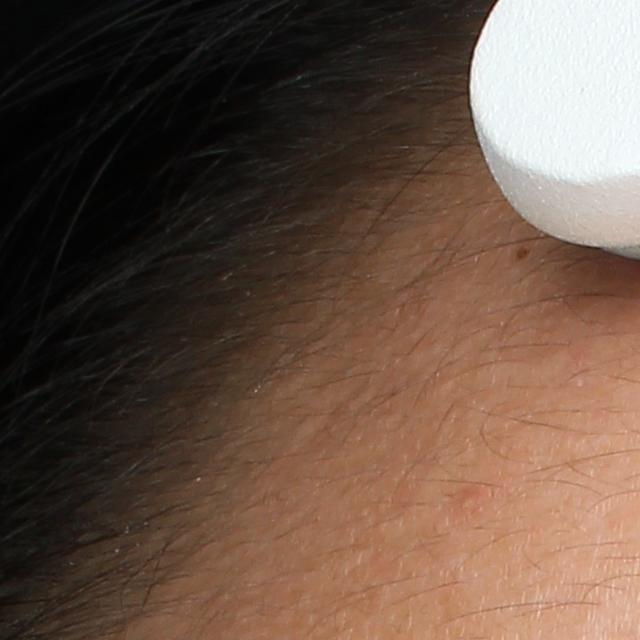papule: (453, 486, 482, 514)
